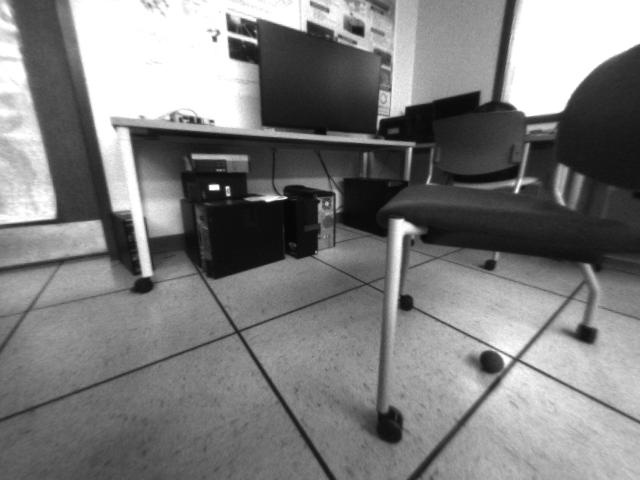dogtoy: (472, 345, 510, 382)
